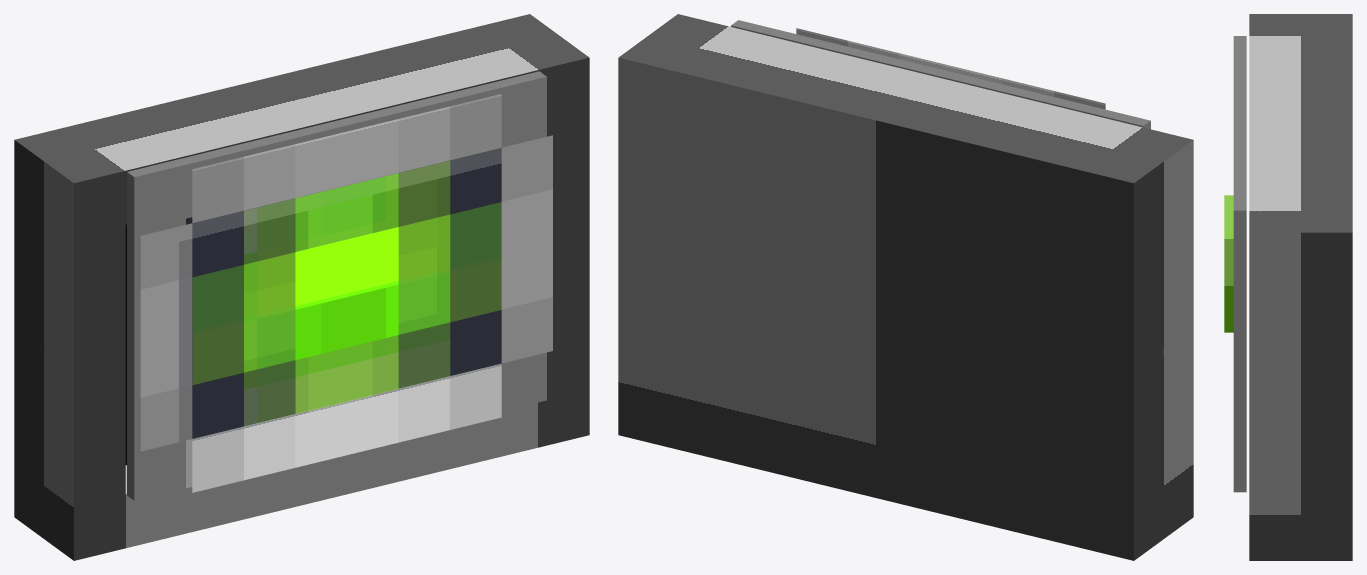
The model's file is door_button_success.glb.
3 views of the same model, side by side, from view 1: azimuth 30°, elevation 25°; view 2: azimuth 150°, elevation 25°; view 3: azimuth 270°, elevation 25° (orthographic). The views are drawn at different scales.
Visible parts, largest first — view 1: Glow_Mask_Overlay, Continuous_Housing, Feedback_Overlay, Service_Cover; view 2: Continuous_Housing, Service_Cover, Glow_Mask_Overlay; view 3: Continuous_Housing, Service_Cover, Push_Button.
Boxes of the visible parts, x1=… form: Glow_Mask_Overlay: x1=140, y1=94, x2=552, y2=492; Continuous_Housing: x1=14, y1=14, x2=589, y2=560; Feedback_Overlay: x1=193, y1=161, x2=501, y2=426; Service_Cover: x1=127, y1=71, x2=546, y2=500; Continuous_Housing: x1=618, y1=14, x2=1193, y2=560; Service_Cover: x1=731, y1=20, x2=1150, y2=129; Glow_Mask_Overlay: x1=796, y1=28, x2=1105, y2=109; Continuous_Housing: x1=1249, y1=14, x2=1352, y2=560; Service_Cover: x1=1233, y1=36, x2=1246, y2=492; Push_Button: x1=1224, y1=195, x2=1233, y2=332.
Bounding box in the file's own units: 0.2812 × 0.1969 × 0.0709.
Materials: 12 (12 with a texture image).
